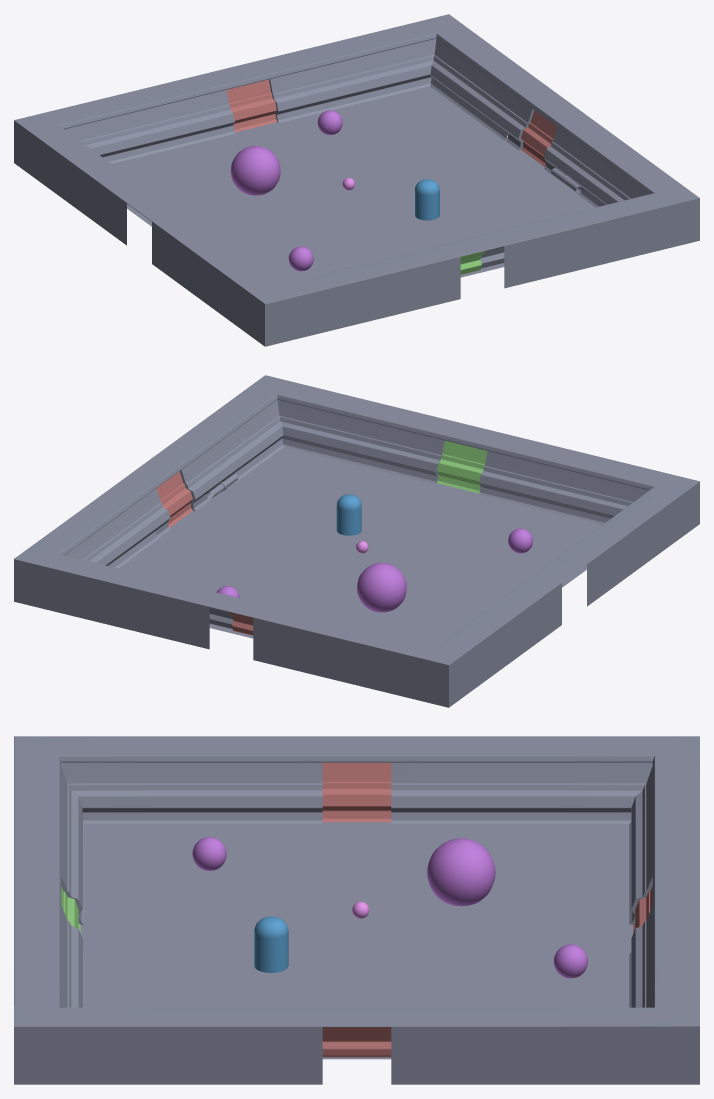
Rendered from Layout1TEST.fbx.
3 views of the same model, one above another, from view 1: azimuth 30°, elevation 25°; view 2: azimuth 150°, elevation 25°; view 3: azimuth 270°, elevation 25° (orthographic). The views are drawn at different scales.
Parts seen in each view (by area): view 1: Floor, Corner3, Corner4, Corner1, Corner2, Doorway3, Doorway2, Doorway4, pCube66, pCube68, pCube69, pCube70 (+17 smaller); view 2: Floor, Corner2, Corner1, Corner4, Corner3, Doorway2, Doorway3, Doorway4, pCube61, pCube62, pCube57, pCube58 (+17 smaller); view 3: Floor, Corner1, Corner4, Corner2, Corner3, Doorway1, Doorway4, pCube74, pCube77, pCube72, pCube78, pCube81 (+19 smaller).
Part boxes in pixels (x1,y1,x2,y2): Floor: (112,86,595,284); Corner3: (215,260,351,346); Corner4: (597,161,699,261); Corner1: (362,14,498,103); Corner2: (14,99,126,199); Doorway3: (188,56,300,138); Doorway2: (423,228,525,304); Doorway4: (506,87,598,177); pCube66: (319,35,387,106); pCube68: (275,46,343,117); pCube69: (101,88,169,159); pCube70: (145,78,213,149); Floor: (118,447,601,646); Corner2: (362,621,498,707); Corner1: (14,522,116,622); Corner4: (215,375,351,464); Corner3: (587,460,699,560); Doorway2: (413,417,525,499); Doorway3: (188,589,290,665); Doorway4: (115,448,207,537); pCube61: (370,407,438,478); pCube62: (326,396,394,467); pCube57: (544,449,612,520); pCube58: (500,439,568,510); Floor: (80,822,633,1059); Corner1: (562,968,699,1084); Corner4: (14,968,151,1084); Corner2: (562,736,699,851); Corner3: (14,736,151,851); Doorway1: (288,736,425,823); Doorway4: (288,1007,425,1084); pCube74: (219,736,288,823); pCube77: (425,736,494,823); pCube72: (151,736,219,823); pCube78: (494,736,562,823); pCube81: (219,1007,288,1084).
Size of the model in its own units: 10 by 1.04 by 10.
